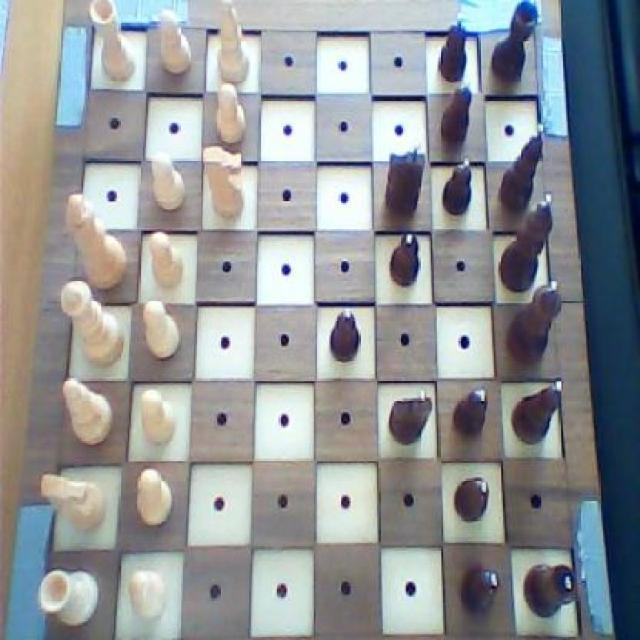bishop: (498, 121, 546, 214), (508, 377, 565, 448)
black-bishop: (494, 191, 558, 296)
black-king: (382, 140, 426, 220), (386, 384, 434, 448)
black-knight: (457, 561, 501, 617), (449, 384, 490, 444), (437, 83, 473, 151), (436, 11, 468, 84), (440, 155, 475, 220), (325, 306, 362, 366), (386, 230, 424, 288), (451, 474, 491, 525)
black-pawn: (504, 278, 564, 367)
black-queen: (488, 0, 544, 85), (522, 558, 580, 620)
black-rook: (58, 375, 115, 451), (211, 0, 251, 85)
white-bishop: (65, 188, 129, 292)
white-king: (40, 468, 111, 534), (200, 143, 247, 223)
white-knight: (154, 6, 194, 79), (139, 297, 183, 362), (149, 147, 188, 216), (131, 468, 174, 529), (126, 564, 169, 624), (137, 384, 178, 446), (147, 229, 186, 288), (216, 80, 246, 145)
white-pawn: (58, 274, 124, 365)
white-queen: (84, 0, 138, 83), (37, 566, 99, 627)
